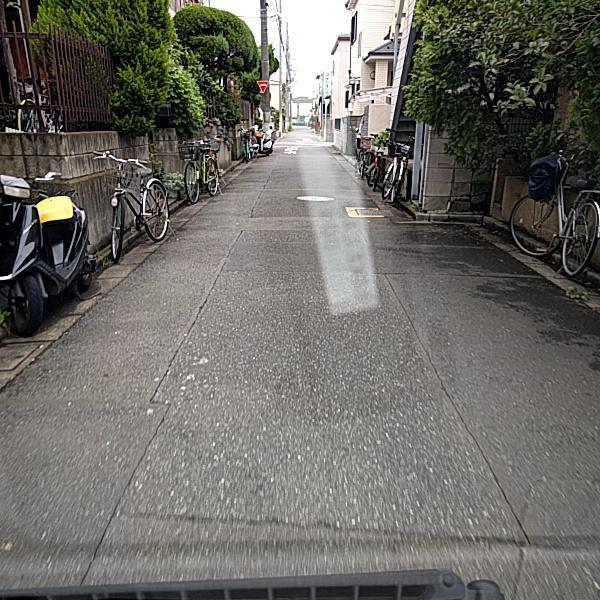D50: (292, 191, 334, 203)
